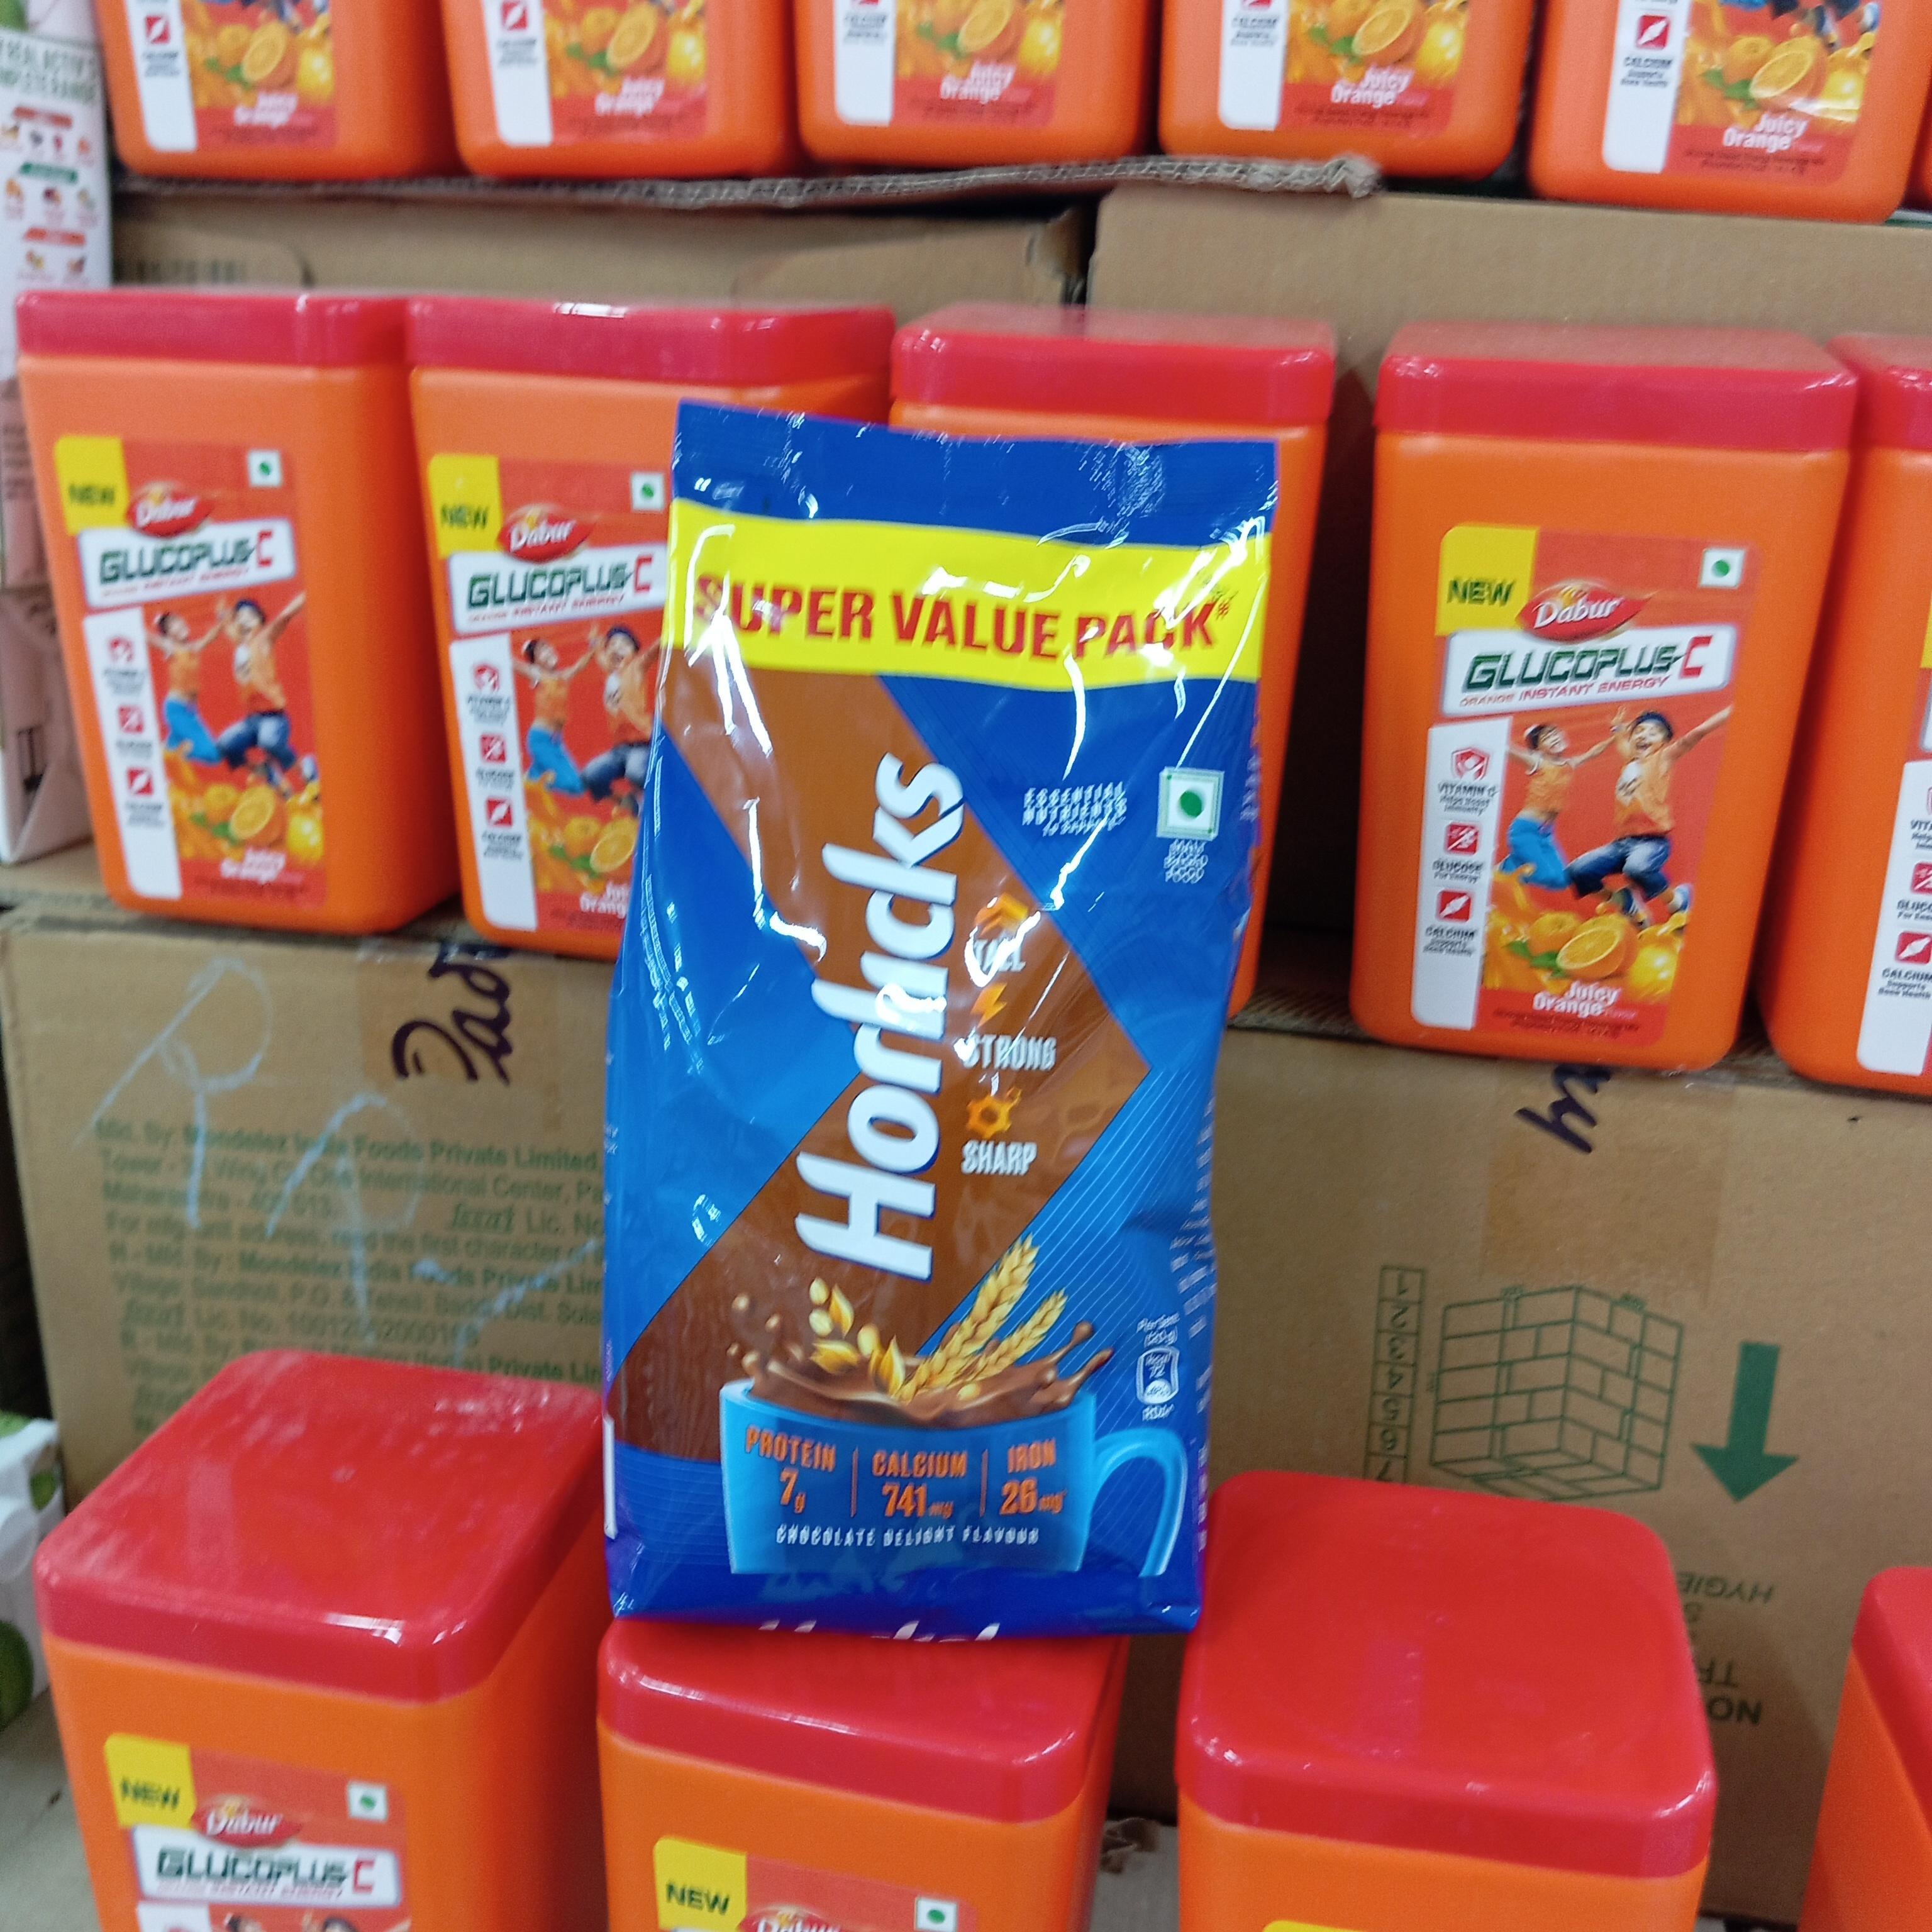HORLICK_CHOCOLATE_750_G_POUCH: (635, 421, 1221, 1629)
